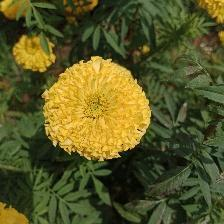marigold: (43, 56, 153, 164)
